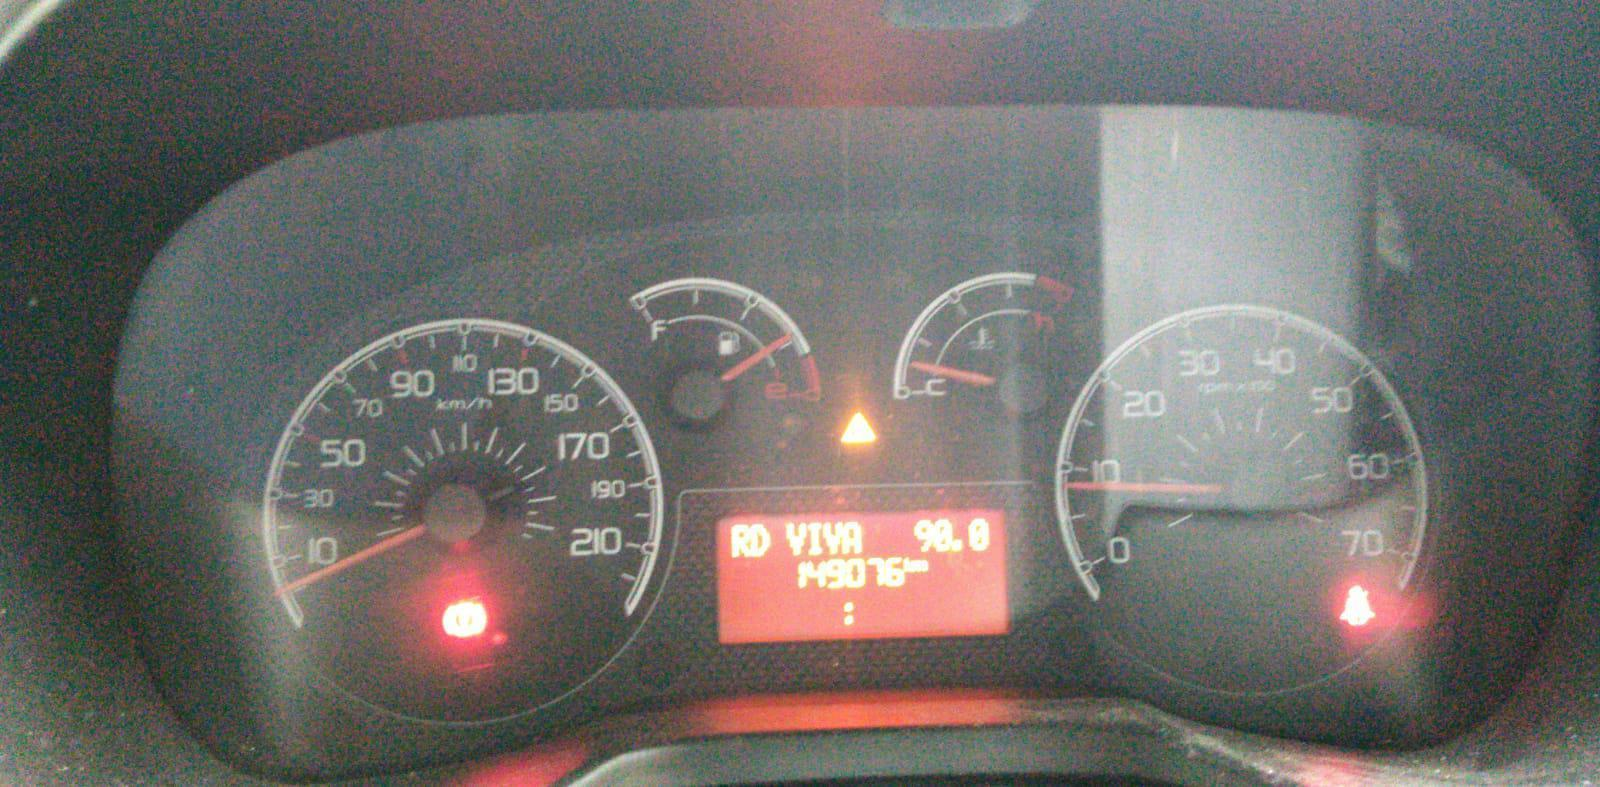,: (951, 539, 962, 551)
0: (967, 517, 989, 551), (845, 557, 866, 588), (934, 518, 952, 552)
1: (796, 560, 807, 588)
4: (807, 560, 826, 588)
6: (885, 556, 904, 586)
7: (866, 557, 885, 587)
9: (913, 519, 935, 552), (827, 559, 845, 589)
X: (729, 523, 751, 558), (785, 521, 807, 556), (842, 520, 863, 555), (750, 523, 771, 556), (822, 521, 842, 554), (806, 521, 822, 555), (842, 600, 855, 626), (913, 558, 928, 572), (904, 556, 913, 573)
odometer: (712, 506, 1012, 646)
